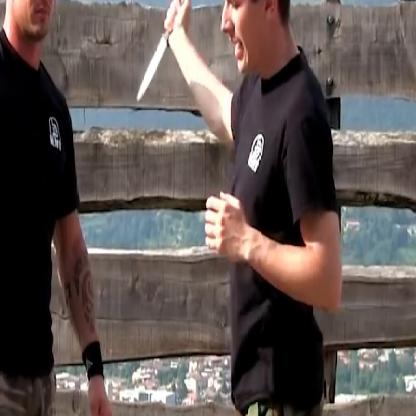knife: (132, 0, 194, 108)
